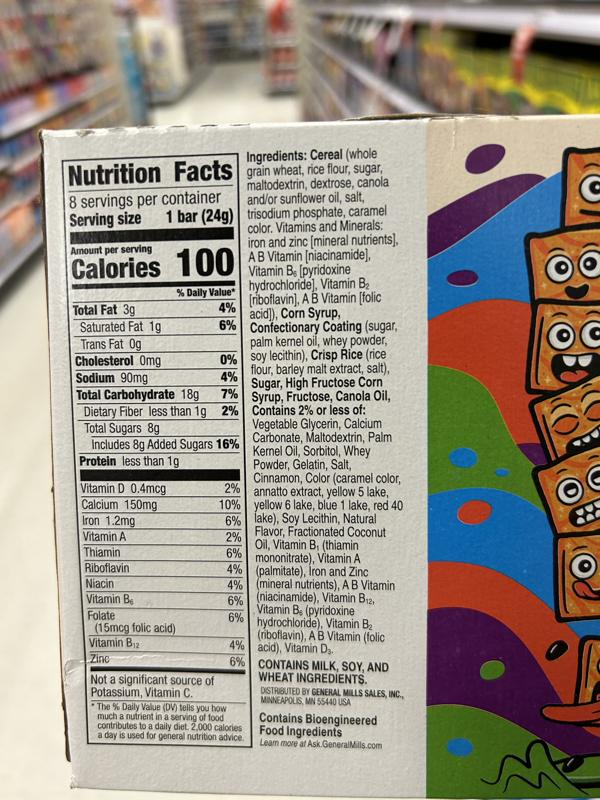ingredients: (244, 147, 406, 657)
